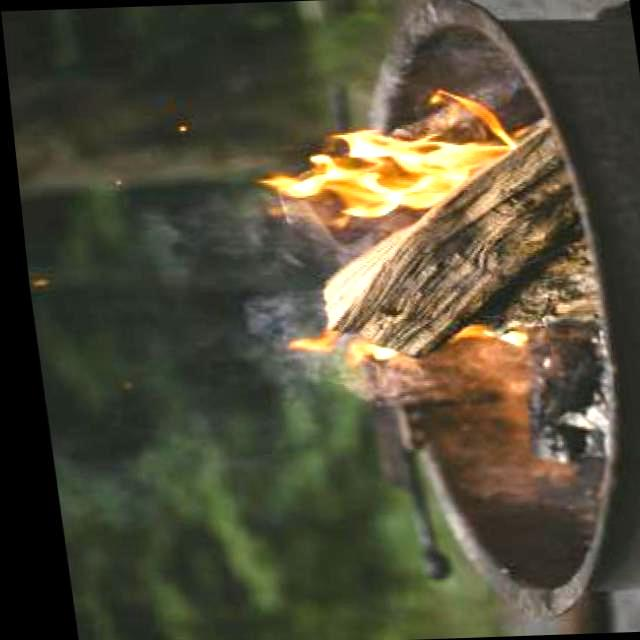fire: (253, 100, 521, 224), (260, 310, 520, 372)
